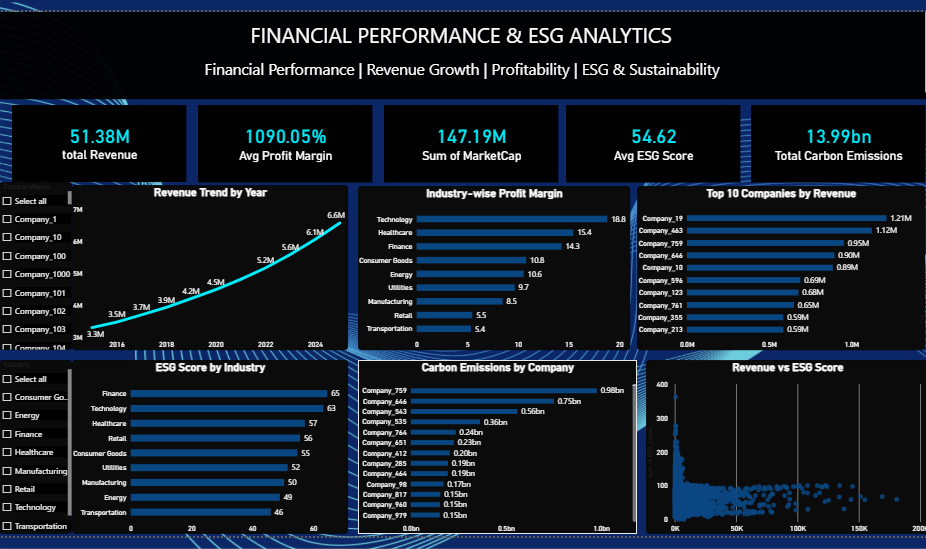

This screenshot's page, from the dashboard's own definition file:
{"tool":"powerbi","page":{"name":"Page 1","canvas":[1920,1080],"ordinal":0},"visuals":[{"type":"textbox","box":[0,0,1920,180],"z":0},{"type":"cardVisual","fields":{"Data":["finaceanalysistable.total Revenue"]},"box":[26,193,360,159],"z":1},{"type":"cardVisual","fields":{"Data":["finaceanalysistable.Avg Profit Margin"]},"box":[410.8,193,360,160],"z":2},{"type":"cardVisual","fields":{"Data":["Sum(finaceanalysistable.MarketCap)"]},"box":[794.8,192,360,160],"z":3},{"type":"cardVisual","fields":{"Data":["finaceanalysistable.Avg ESG Score"]},"box":[1171,193,360,160],"z":4},{"type":"cardVisual","fields":{"Data":["finaceanalysistable.Total Carbon Emissions"]},"box":[1552.5,191,360,160],"z":5},{"type":"lineChart","title":"Revenue Trend by Year ","fields":{"Category":["finaceanalysistable.Year"],"Y":["finaceanalysistable.total Revenue"]},"box":[150.7,357.2,569.8,340.6],"z":6},{"type":"clusteredBarChart","title":"Industry-wise Profit Margin","fields":{"Category":["finaceanalysistable.Industry"],"Y":["finaceanalysistable.Avg Profit Margin"]},"box":[741.2,359.2,561.5,338.6],"z":7},{"type":"clusteredBarChart","title":"Top 10 Companies by Revenue","fields":{"Category":["finaceanalysistable.CompanyName"],"Y":["finaceanalysistable.total Revenue"]},"box":[1317.2,359.2,594.6,338.6],"z":8},{"type":"clusteredBarChart","title":" ESG Score by Industry","fields":{"Y":["finaceanalysistable.Avg ESG Score"],"Category":["finaceanalysistable.Industry"]},"box":[150.7,718.5,569.8,359.2],"z":9},{"type":"clusteredBarChart","title":"Carbon Emissions by Company","fields":{"Category":["finaceanalysistable.CompanyName"],"Y":["finaceanalysistable.Total Carbon Emissions"]},"box":[741.2,718.5,576,359.2],"z":10},{"type":"scatterChart","title":"Revenue vs ESG Score","fields":{"X":["finaceanalysistable.Revenue"],"Y":["Sum(finaceanalysistable.ESG_Social)"]},"box":[1335.7,718.5,584.3,359.2],"z":11},{"type":"slicer","fields":{"Values":["finaceanalysistable.CompanyName"]},"box":[0,351,150.7,346.8],"z":12},{"type":"slicer","fields":{"Values":["finaceanalysistable.Industry"]},"box":[0,718.5,150.7,359.2],"z":13}]}

Visuals, with their boxes in screenshot pixels (x1, y1, x2, y2):
textbox: Rect(0, 10, 925, 98)
cardVisual - finaceanalysistable.total Revenue: Rect(3, 105, 181, 183)
cardVisual - finaceanalysistable.Avg Profit Margin: Rect(193, 105, 370, 184)
cardVisual - Sum(finaceanalysistable.MarketCap): Rect(382, 104, 560, 183)
cardVisual - finaceanalysistable.Avg ESG Score: Rect(568, 105, 745, 184)
cardVisual - finaceanalysistable.Total Carbon Emissions: Rect(756, 104, 925, 183)
"Revenue Trend by Year " lineChart: Rect(65, 186, 346, 354)
"Industry-wise Profit Margin" clusteredBarChart: Rect(356, 187, 633, 354)
"Top 10 Companies by Revenue" clusteredBarChart: Rect(640, 187, 925, 354)
" ESG Score by Industry" clusteredBarChart: Rect(65, 364, 346, 541)
"Carbon Emissions by Company" clusteredBarChart: Rect(356, 364, 640, 541)
"Revenue vs ESG Score" scatterChart: Rect(649, 364, 925, 541)
slicer - finaceanalysistable.CompanyName: Rect(0, 183, 65, 354)
slicer - finaceanalysistable.Industry: Rect(0, 364, 65, 541)
